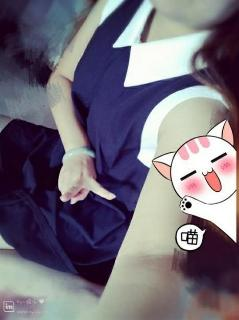short sleeve dress: (0, 0, 238, 283)
